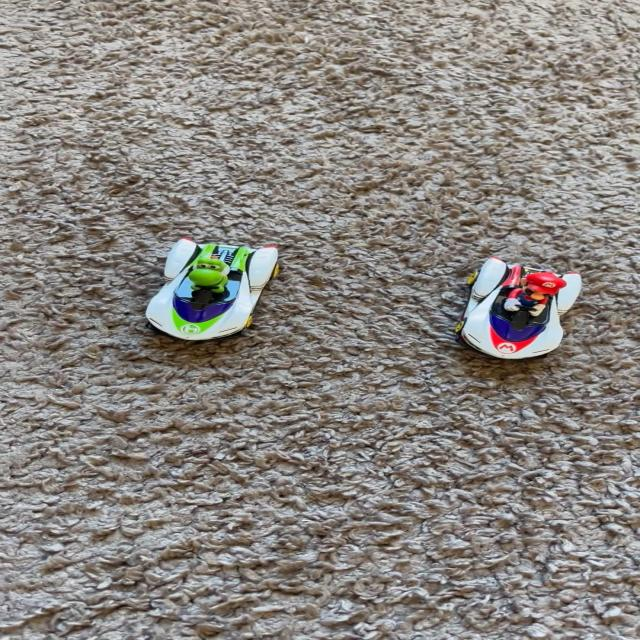mario: (456, 255, 585, 368)
yoshi: (144, 226, 298, 347)
